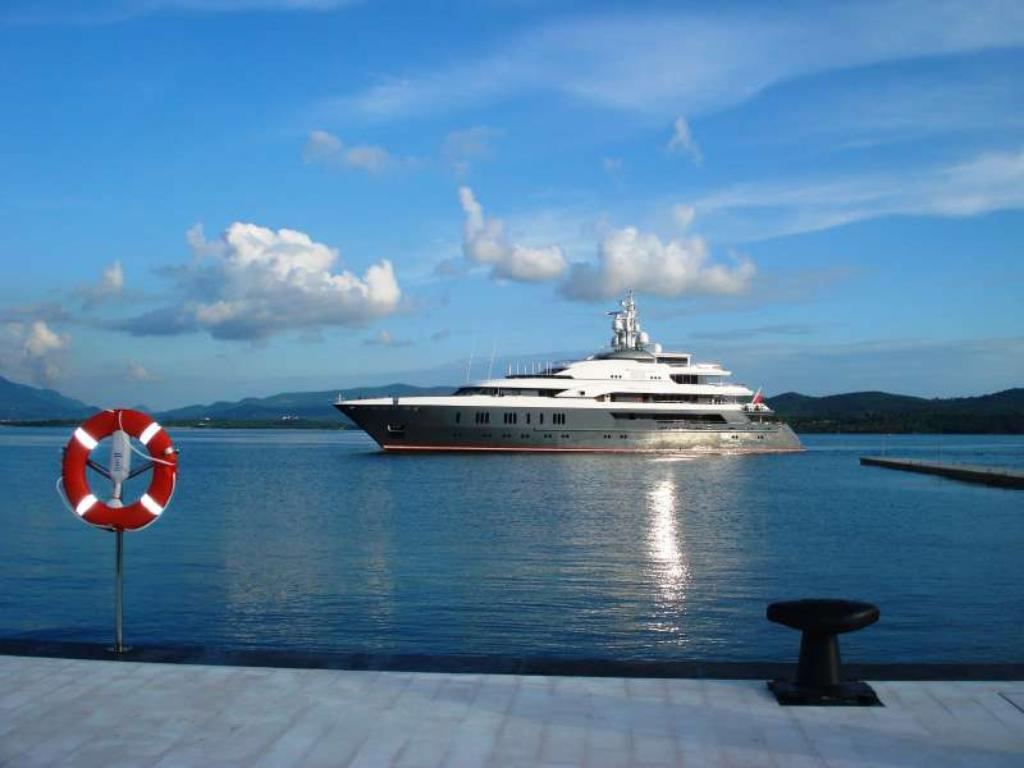PassengerShip: (334, 280, 802, 456)
